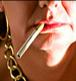Cigarette: (16, 23, 44, 58)
